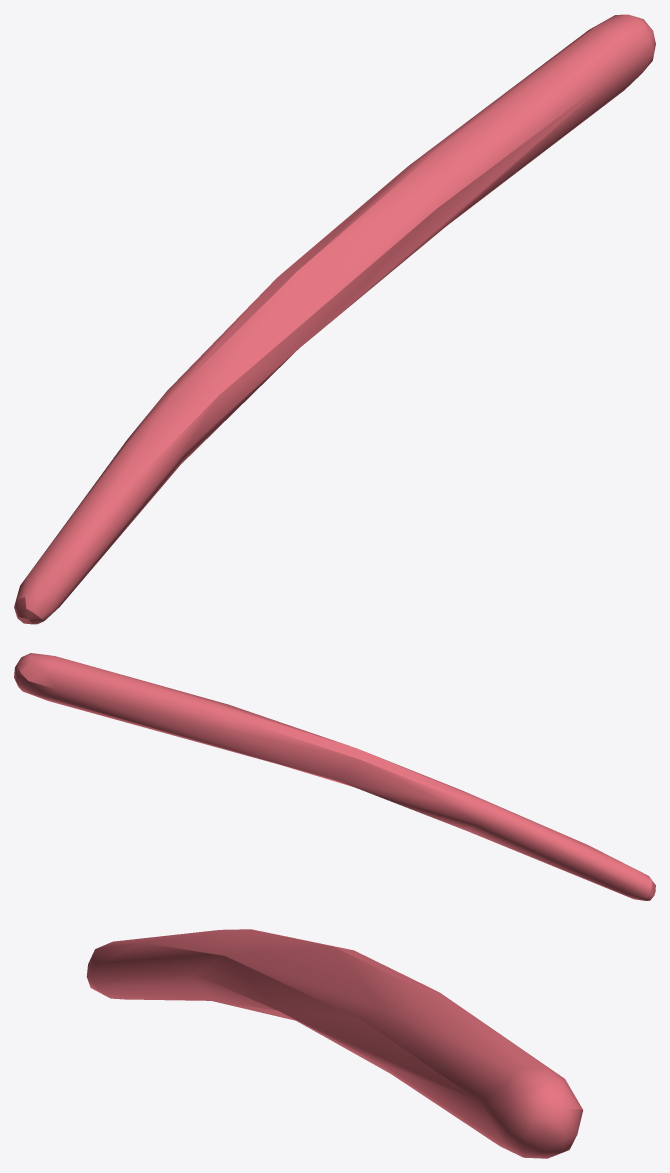
Rendered from fma8673_fj6131.glb.
The picture shows the model from 3 angles, top to bottom: view 1: azimuth 30°, elevation 25°; view 2: azimuth 150°, elevation 25°; view 3: azimuth 270°, elevation 25°; orthographic projection. The views are drawn at different scales.
Visible parts, largest first — view 1: FMA8673_FJ6131; view 2: FMA8673_FJ6131; view 3: FMA8673_FJ6131.
Boxes of the visible parts, x1,y1,x2,y2 form: FMA8673_FJ6131: (14, 14, 655, 624); FMA8673_FJ6131: (14, 653, 655, 900); FMA8673_FJ6131: (86, 929, 583, 1158).
Bounding box in the file's own units: 0.0352 × 0.0128 × 0.0143.
